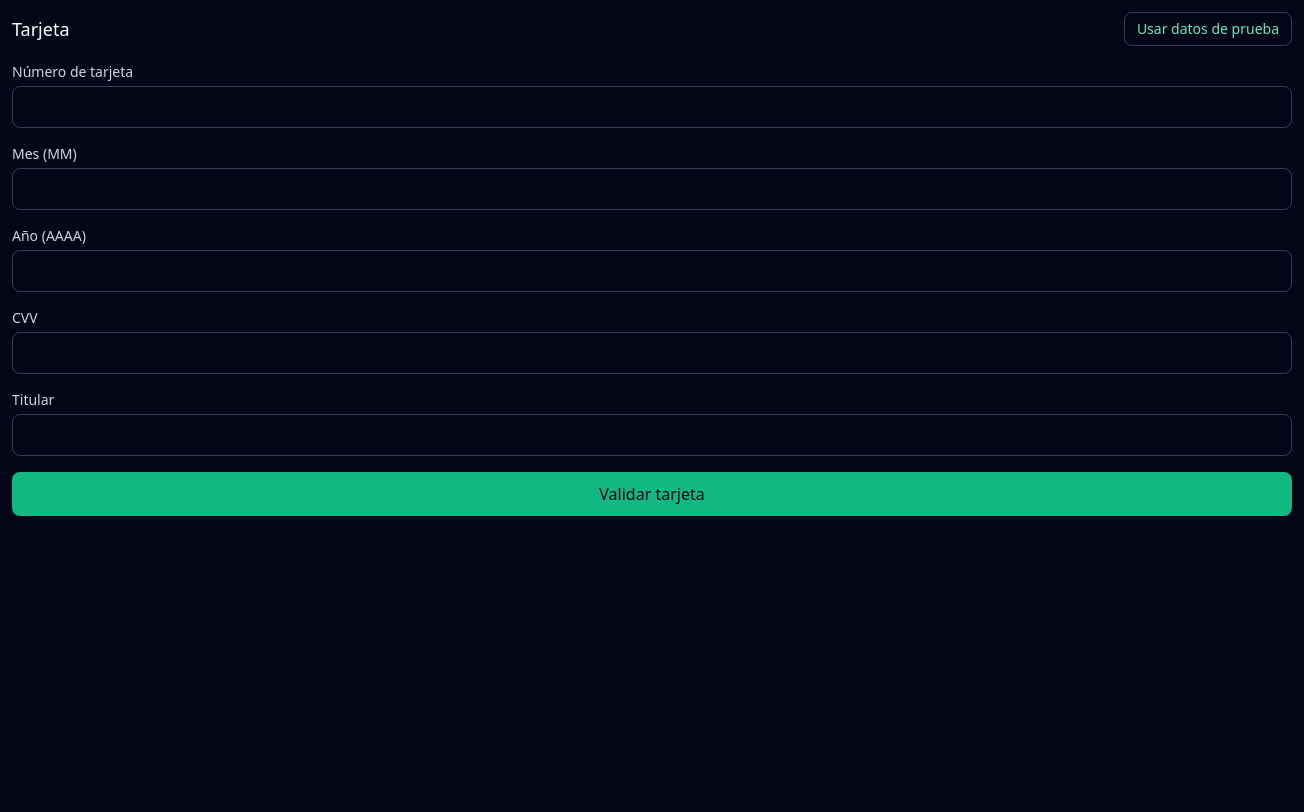
it: CardForm › muestra errores si se envía vacío
Click the button "Validar tarjeta": x=652, y=494 [12,472,1292,516]
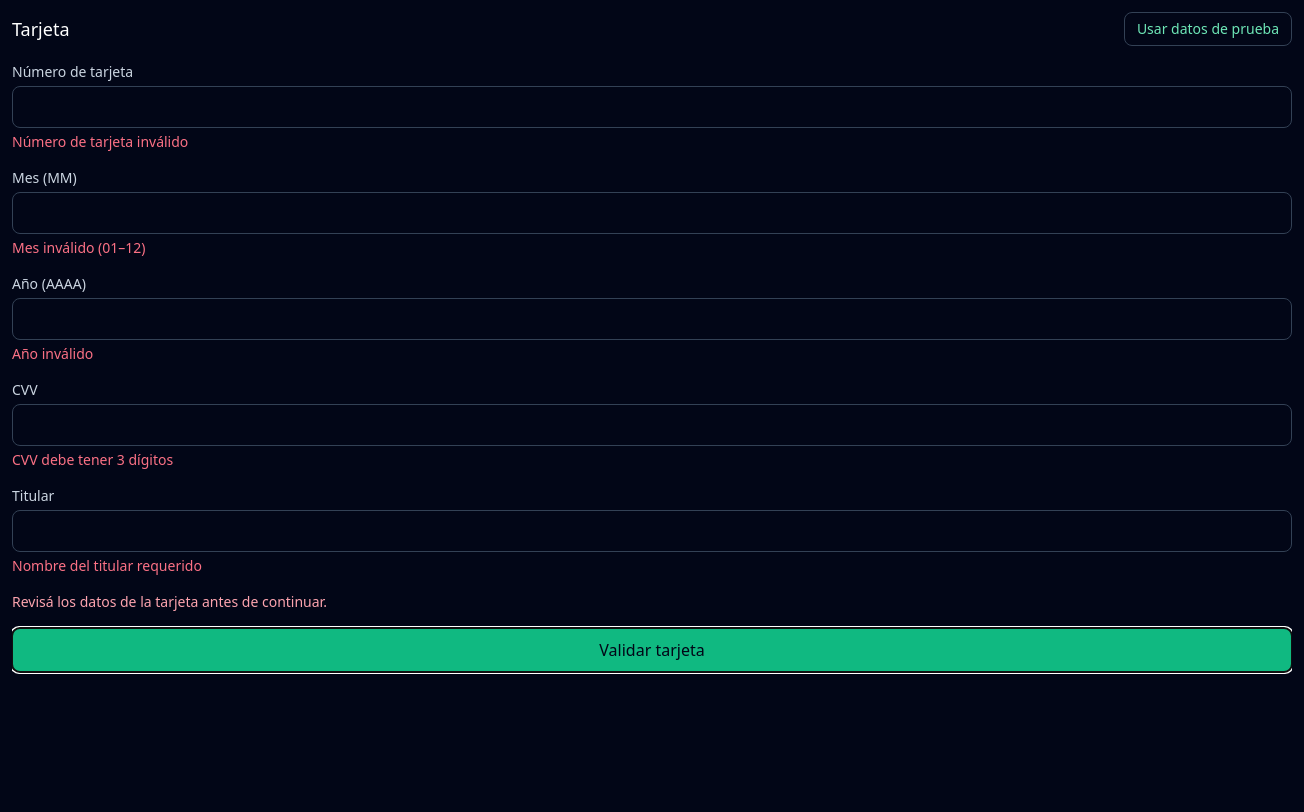
Check: the text "Revisá los datos de la tarjeta antes de continuar." is shown, box [12,592,327,611]
